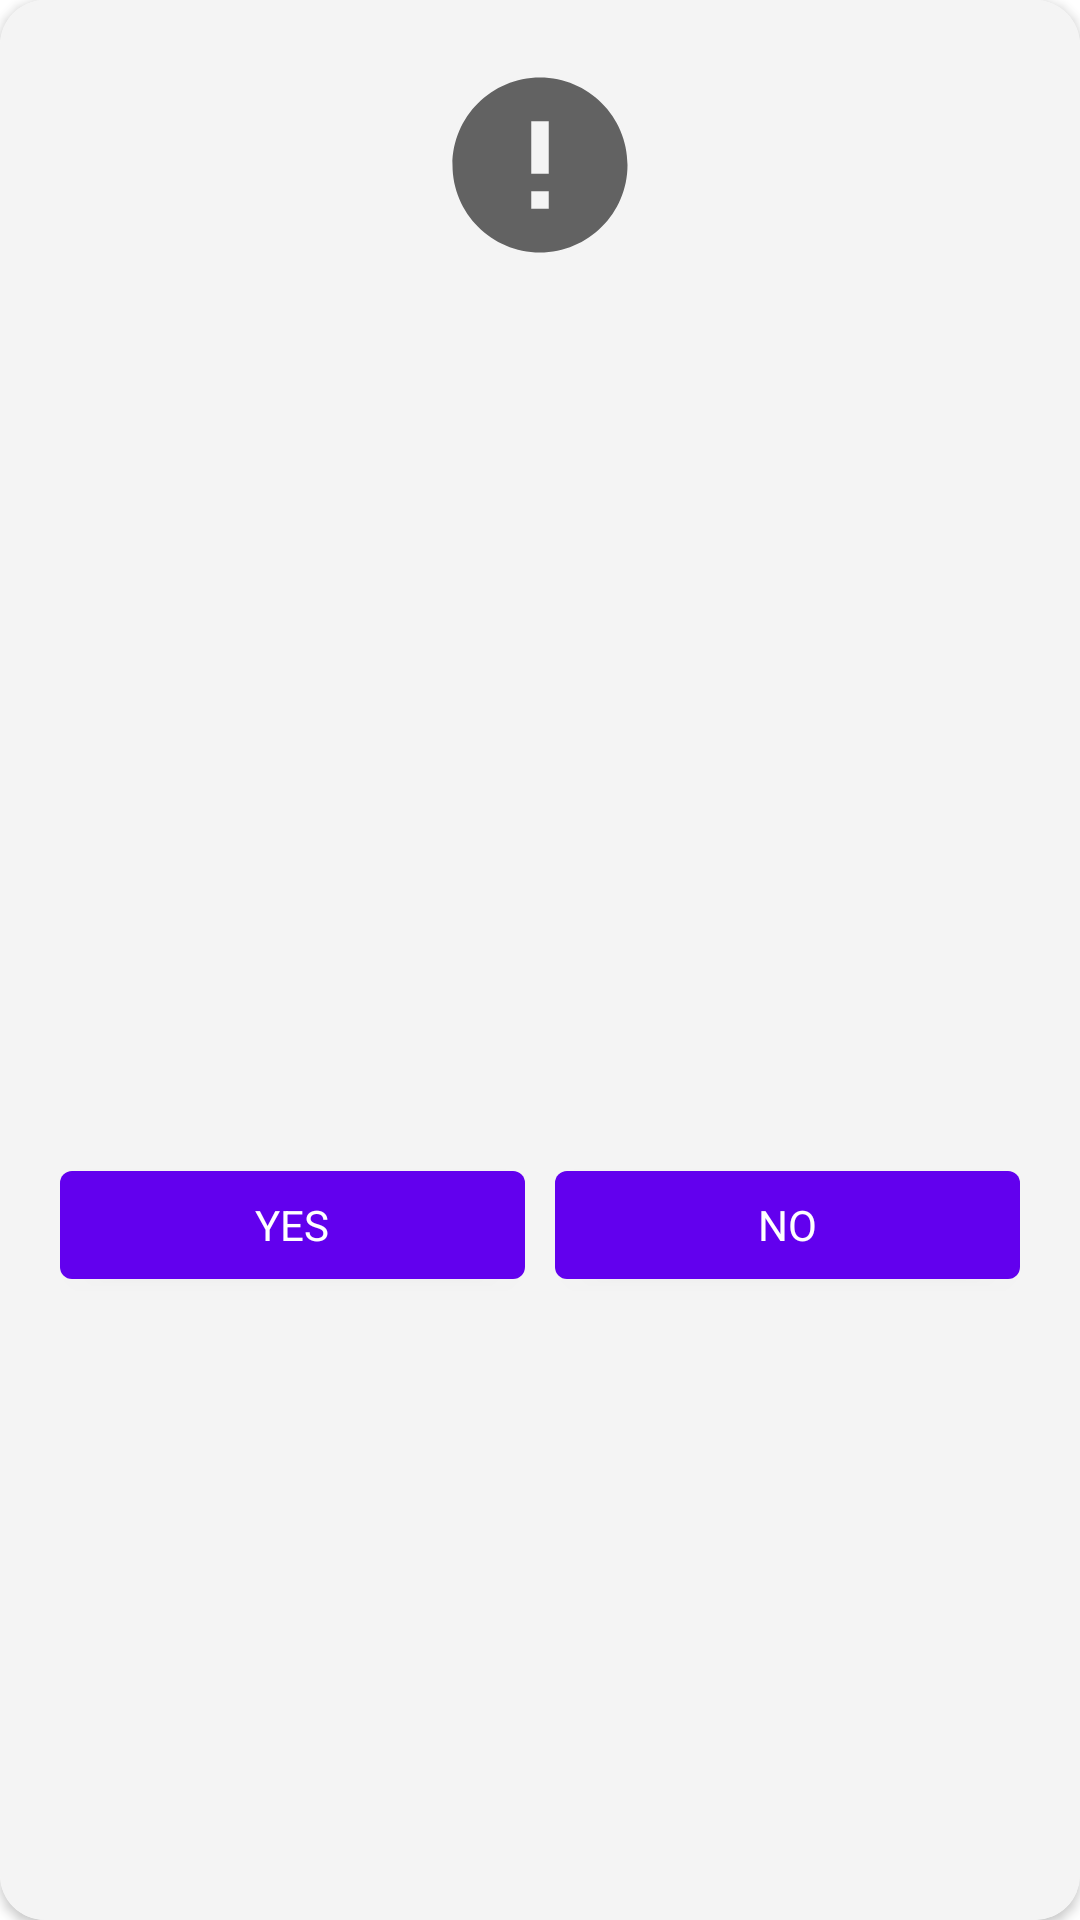

Icons on this 1080*1920 Android screen, each with its box as (x1, y1, x2, y2):
error: (452, 77, 628, 253)
